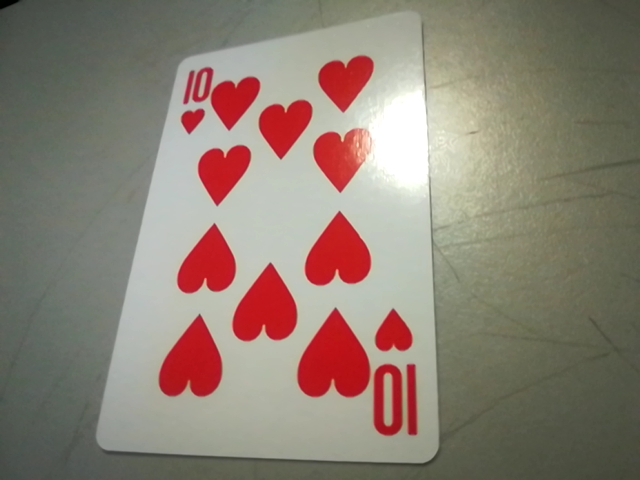hx 10: (364, 301, 431, 451)
